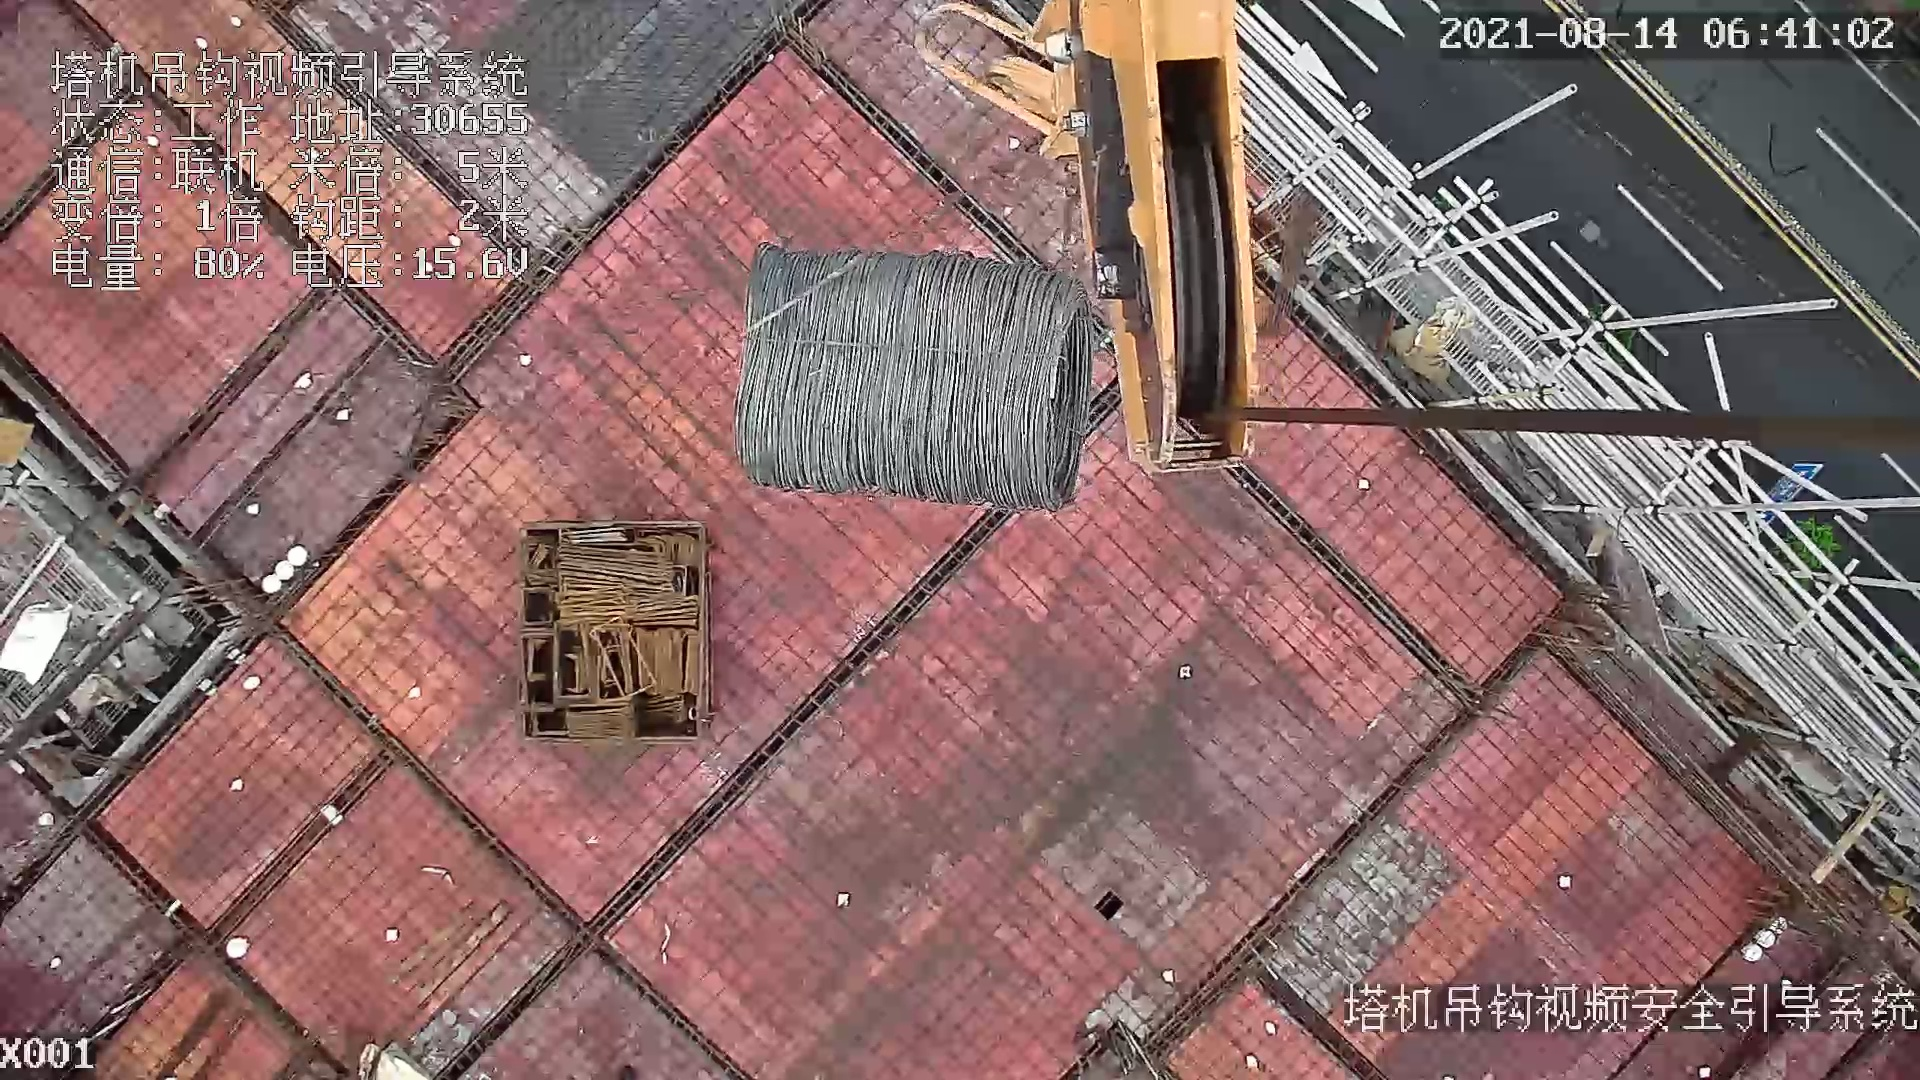hook: (913, 1, 1269, 472)
